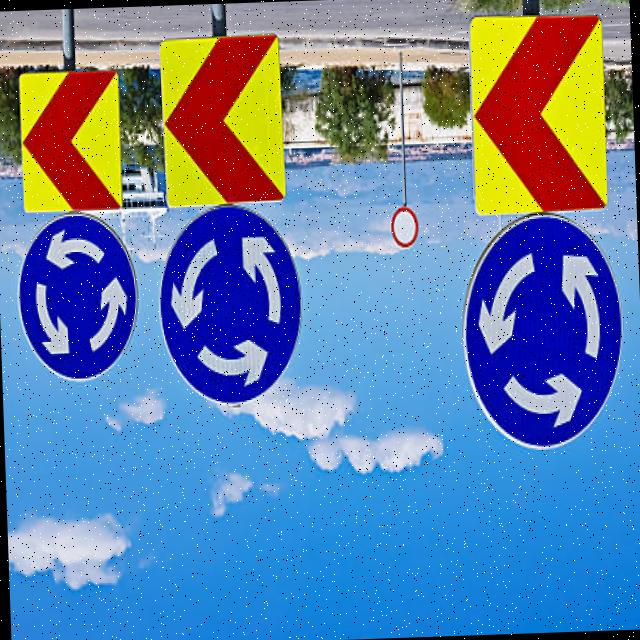round_about: (446, 211, 634, 458), (150, 202, 308, 414), (8, 206, 146, 388)
